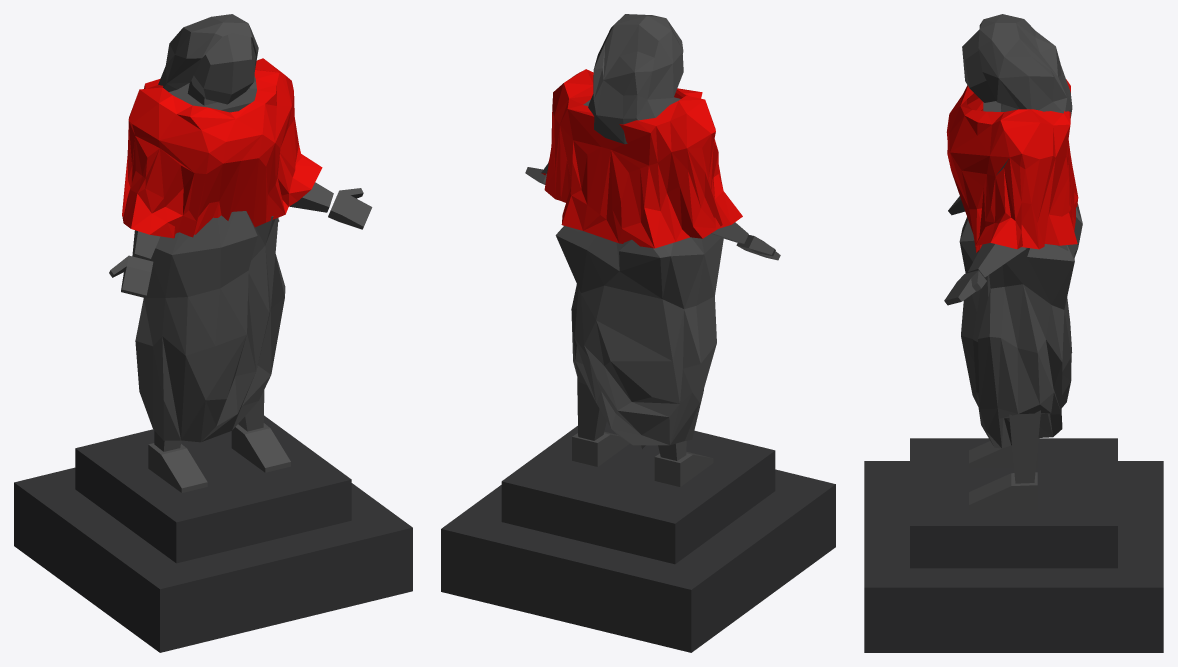
The model's file is TestStatue.fbx.
The picture shows the model from 3 angles, left to right: view 1: azimuth 30°, elevation 25°; view 2: azimuth 150°, elevation 25°; view 3: azimuth 270°, elevation 25°; orthographic projection. The views are drawn at different scales.
Parts seen in each view (by area): view 1: Statue; view 2: Statue; view 3: Statue.
Part boxes in pixels (x1,y1,x2,y2): Statue: [14, 14, 412, 652]; Statue: [441, 14, 835, 652]; Statue: [864, 14, 1163, 652].
Size of the model in its own units: 109 by 223 by 107.
